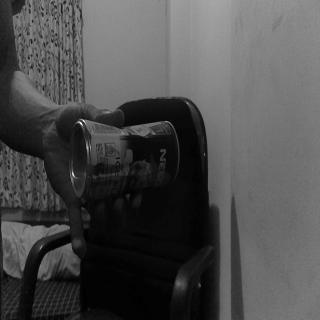alumunium_can: (71, 116, 180, 188)
